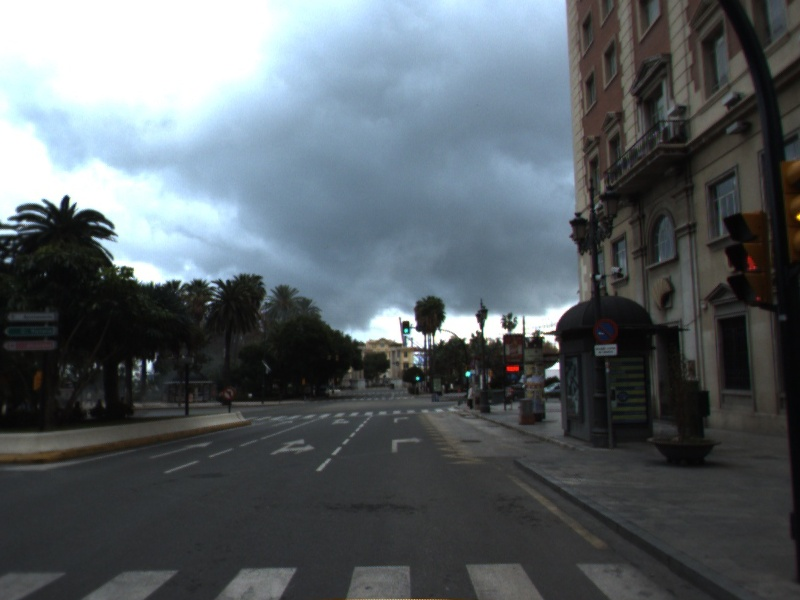RIGHT: (389, 434, 426, 455), (391, 414, 412, 425)
STRAIGHT: (146, 439, 216, 461), (269, 418, 294, 428)
STRAIGHT_RIGHT: (267, 436, 318, 457), (330, 417, 352, 426)
